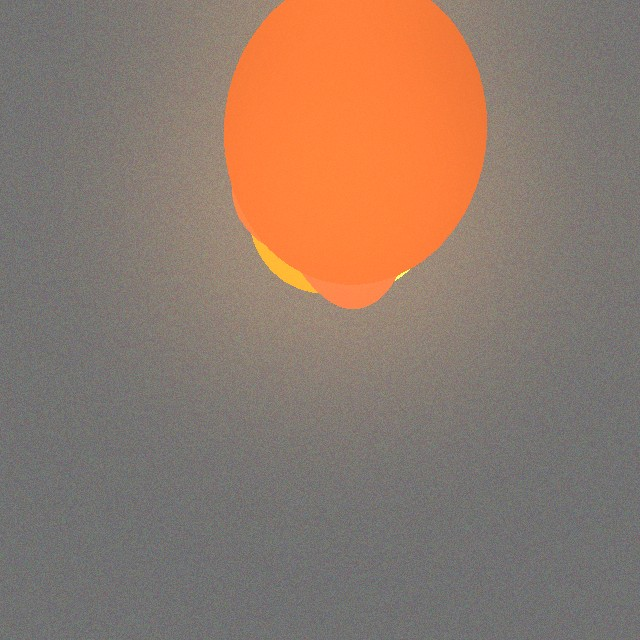fire: (233, 70, 443, 316)
